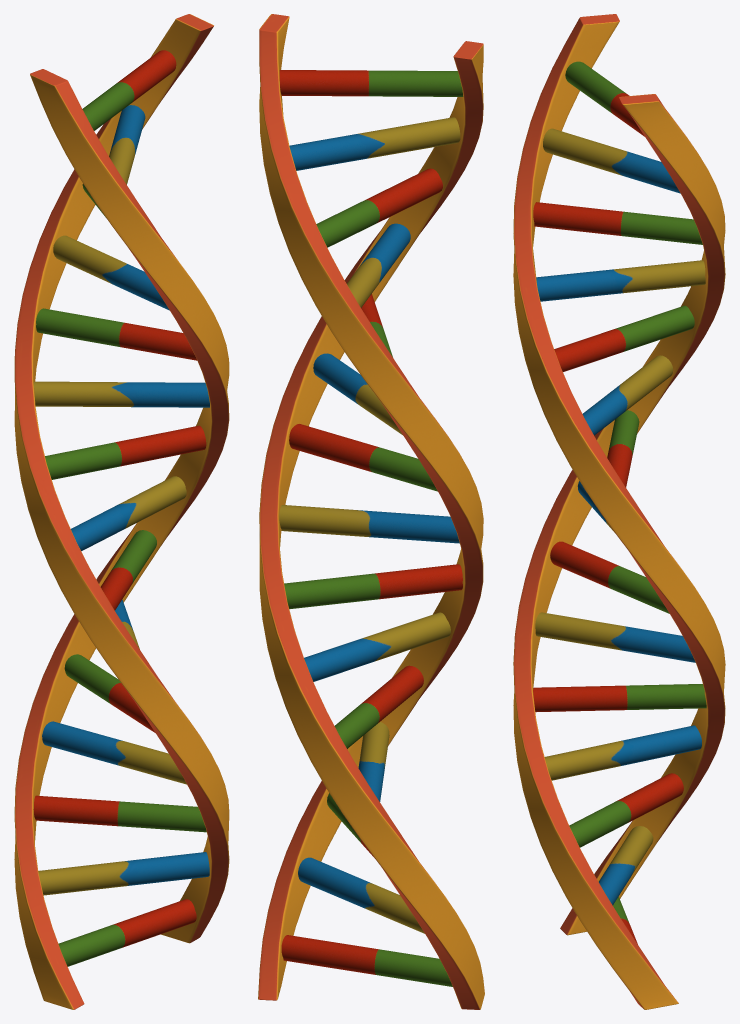
The model's file is adnOlivalifeuser.glb.
3 views of the same model, side by side, from view 1: azimuth 30°, elevation 25°; view 2: azimuth 150°, elevation 25°; view 3: azimuth 270°, elevation 25° (orthographic). The views are drawn at different scales.
Visible parts, largest first — view 1: Object_5; view 2: Object_5; view 3: Object_5.
Part boxes in pixels (<box>): Object_5: <box>14,14,229,1009</box>; Object_5: <box>258,14,484,1009</box>; Object_5: <box>513,14,725,1009</box>.
Bounding box in the file's own units: 0.2221 × 1.04 × 0.2196.
Materials: 1 (1 with a texture image).
